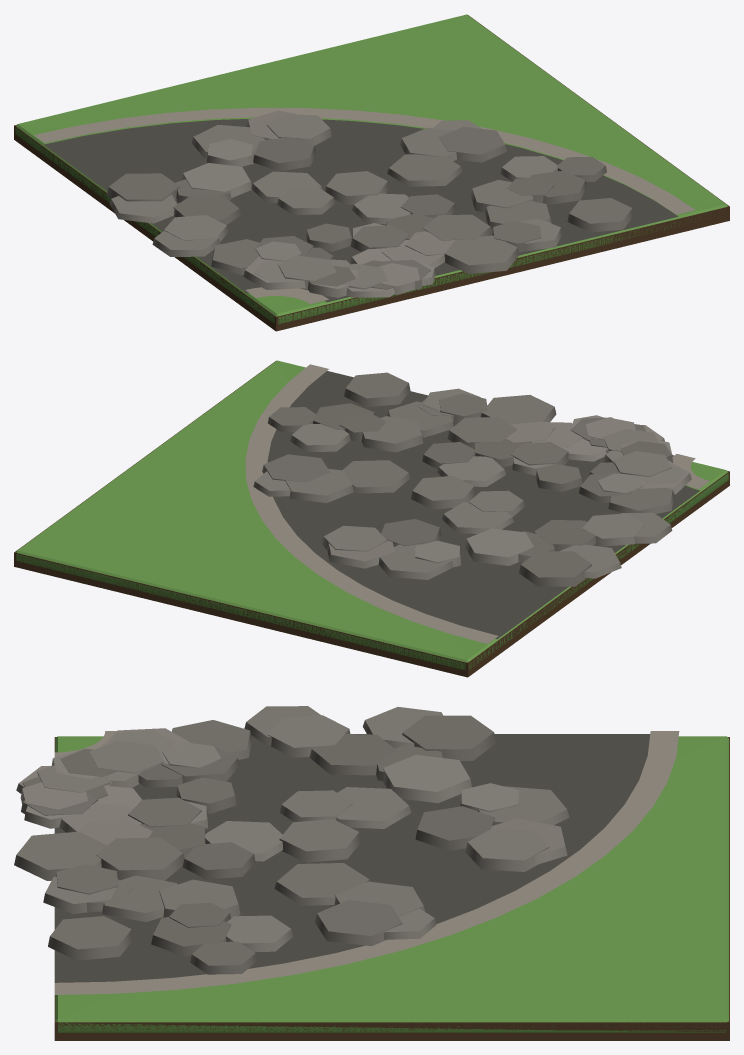
Rendered from road-cobble-corner-01.glb.
The picture shows the model from 3 angles, top to bottom: view 1: azimuth 30°, elevation 25°; view 2: azimuth 150°, elevation 25°; view 3: azimuth 270°, elevation 25°; orthographic projection. The views are drawn at different scales.
Visible parts, largest first — view 1: road_cobble_corner_01; view 2: road_cobble_corner_01; view 3: road_cobble_corner_01.
Part boxes in pixels (bbox=[...]): road_cobble_corner_01: bbox=[14, 14, 729, 331]; road_cobble_corner_01: bbox=[14, 360, 729, 677]; road_cobble_corner_01: bbox=[14, 706, 729, 1040].
Size of the model in its own units: 4.22 by 0.2366 by 4.24.
